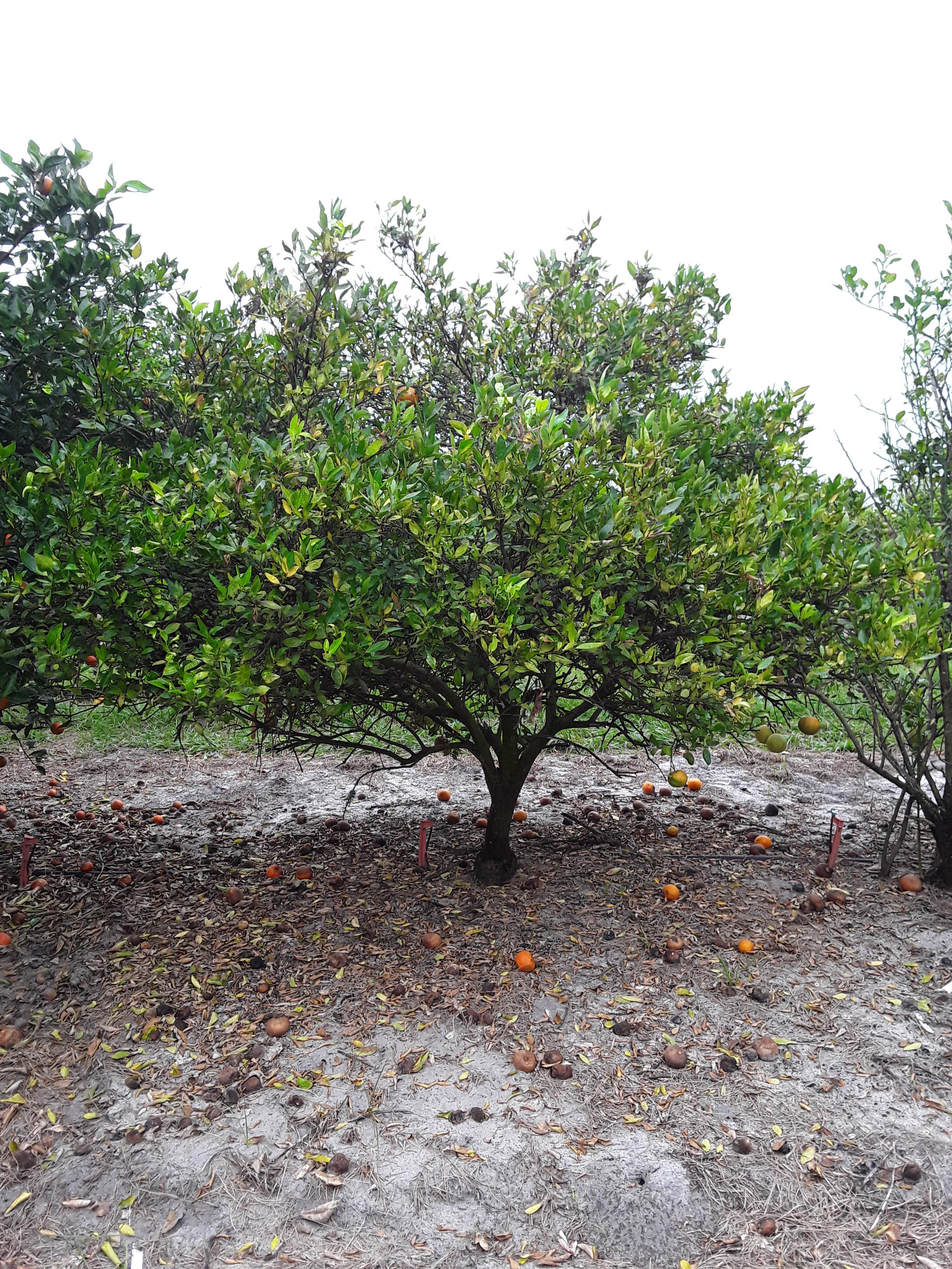fruit_on_ground: (390, 382, 421, 410), (32, 173, 59, 197), (664, 764, 689, 789), (796, 712, 821, 736), (765, 731, 787, 756), (754, 720, 775, 743), (47, 716, 66, 739), (81, 651, 98, 669), (433, 734, 450, 748), (0, 694, 14, 710), (3, 529, 16, 545), (0, 754, 7, 767)
fruit_on_tree: (662, 1045, 688, 1070), (512, 1049, 537, 1074), (263, 1014, 291, 1036), (754, 1037, 778, 1061), (418, 930, 443, 951), (515, 949, 535, 973), (898, 873, 922, 893), (805, 891, 825, 913), (824, 885, 847, 903), (661, 881, 680, 901), (294, 862, 314, 880), (812, 860, 832, 877), (541, 1049, 563, 1064), (265, 863, 284, 879), (224, 886, 243, 902), (752, 835, 773, 848), (738, 939, 756, 954), (698, 807, 715, 822), (686, 776, 703, 791), (511, 808, 527, 823), (663, 948, 678, 964), (436, 788, 451, 803), (668, 934, 684, 948), (749, 843, 765, 857), (336, 819, 353, 832), (586, 809, 602, 822), (640, 781, 656, 794), (657, 785, 673, 797), (446, 812, 460, 825), (323, 816, 338, 828), (665, 825, 680, 837), (475, 816, 488, 829), (519, 828, 534, 839), (633, 799, 645, 811), (540, 796, 551, 806)
